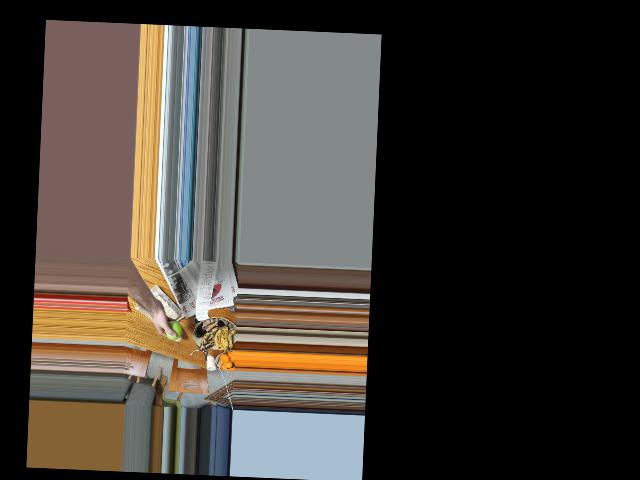apple: (164, 319, 183, 340)
